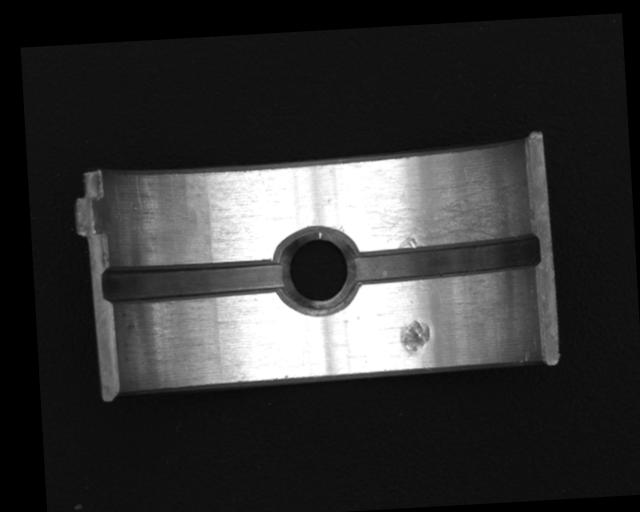bruise: (399, 318, 432, 358)
gap: (348, 231, 541, 287), (100, 257, 286, 304)
hole: (274, 223, 358, 318)
scratch: (347, 156, 517, 253)
